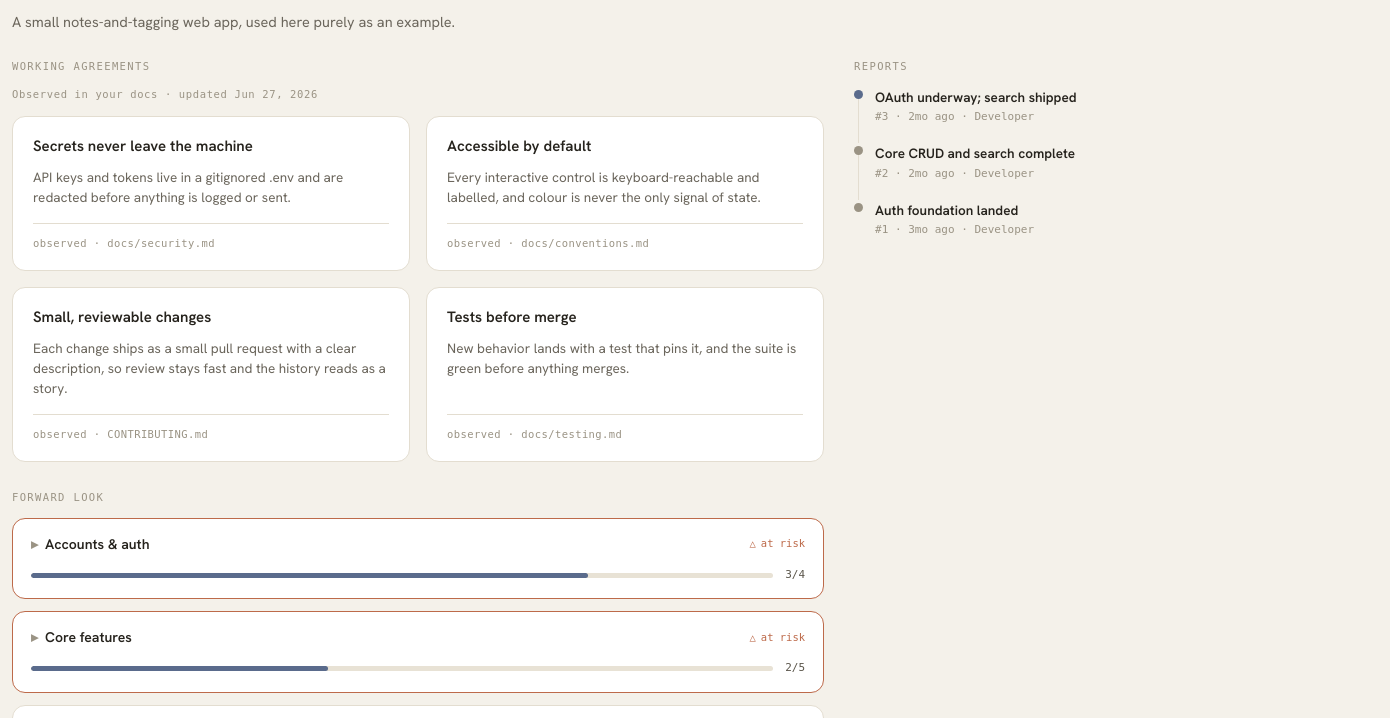
ProjectOverview — shared project page body › renders the forward look as collapsed milestone groups, not a flat checklist
Check: the text "Forward look" is shown, box [12,491,104,503]
Check: the text "Accounts & auth" is shown, box [45,535,150,553]
Click the button "▸ Accounts & auth △ at risk 3/4" at (97, 544), box [31,534,805,583]
(page scrolled)
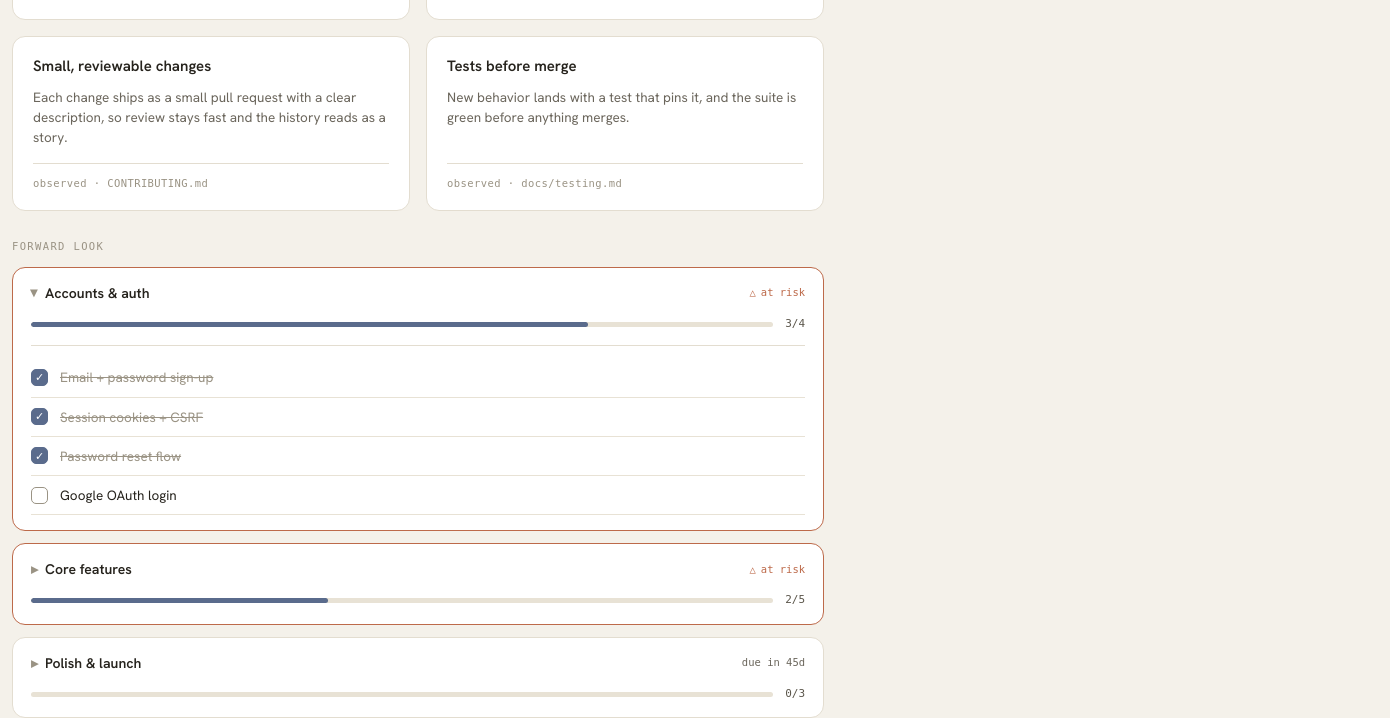
Check: the text "Google OAuth login" is shown, box [60,486,177,504]
